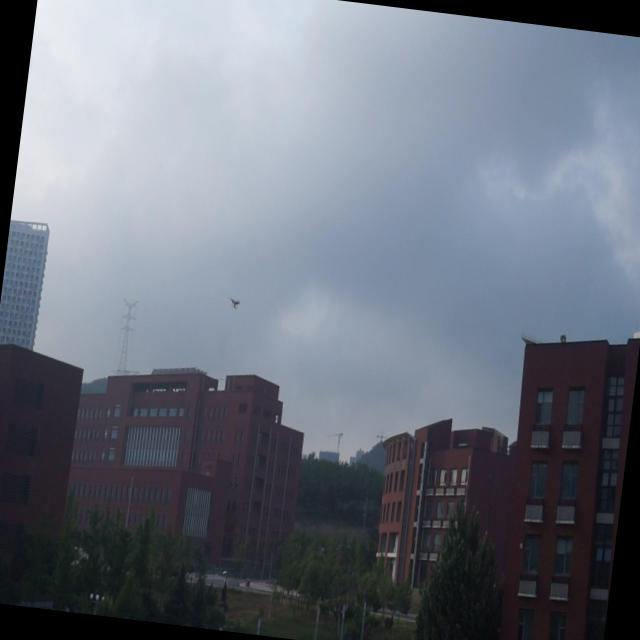drone: (226, 293, 246, 313)
